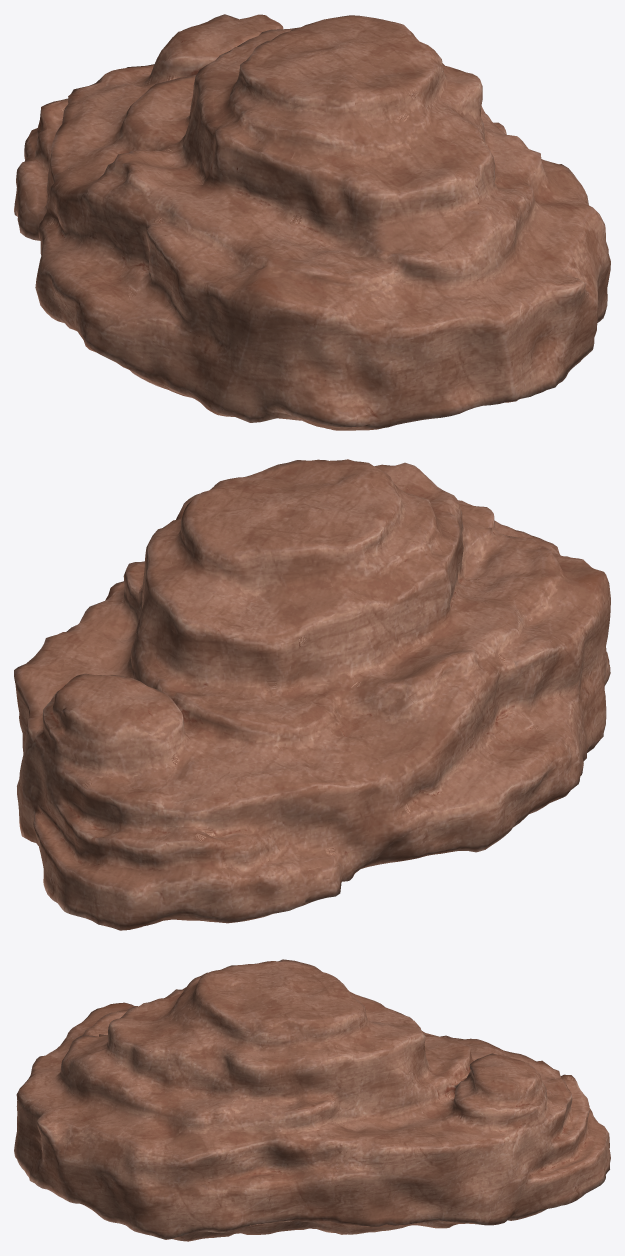
The picture shows the model from 3 angles, top to bottom: view 1: azimuth 30°, elevation 25°; view 2: azimuth 150°, elevation 25°; view 3: azimuth 270°, elevation 25°; orthographic projection. The views are drawn at different scales.
Parts seen in each view (by area): view 1: P11DesertCliff-High; view 2: P11DesertCliff-High; view 3: P11DesertCliff-High.
Boxes of the visible parts, <box> form: P11DesertCliff-High: <box>14,14,610,430</box>; P11DesertCliff-High: <box>14,459,610,930</box>; P11DesertCliff-High: <box>14,959,610,1241</box>.
Bounding box in the file's own units: 1458 × 856 × 2131.
1 material, 1 textured.
